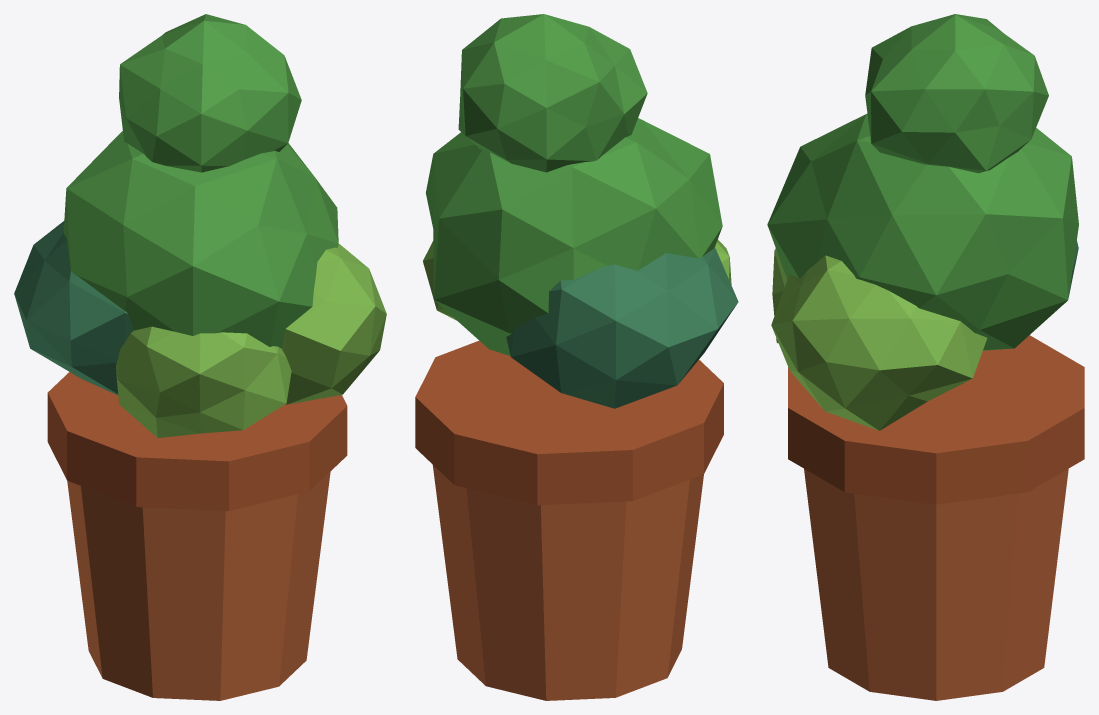
File: prop-potted-plant.glb
The picture shows the model from 3 angles, left to right: view 1: azimuth 30°, elevation 25°; view 2: azimuth 150°, elevation 25°; view 3: azimuth 270°, elevation 25°; orthographic projection. The views are drawn at different scales.
Parts seen in each view (by area): view 1: PottedPlant; view 2: PottedPlant; view 3: PottedPlant.
Part boxes in pixels (x1,y1,x2,y2): PottedPlant: (14,14,386,700); PottedPlant: (415,14,738,700); PottedPlant: (767,14,1084,700).
Size of the model in its own units: 0.3923 by 0.7546 by 0.3358.
